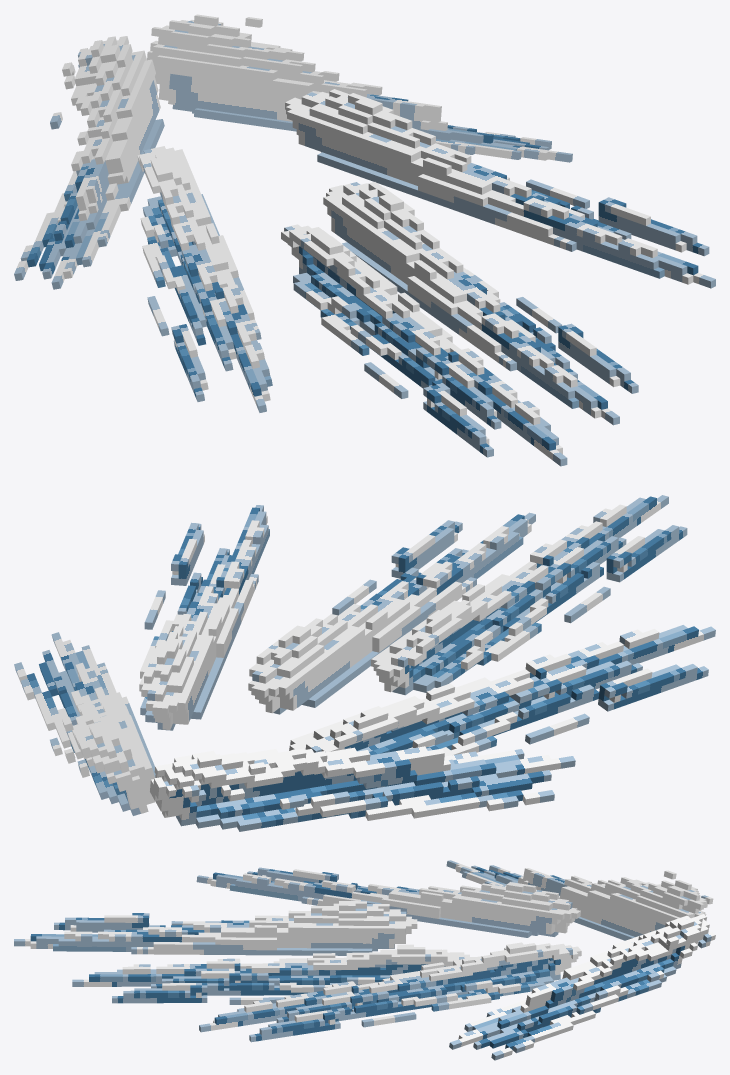
Rendered from vfx_ship_wake_no_ship.gltf.
The picture shows the model from 3 angles, top to bottom: view 1: azimuth 30°, elevation 25°; view 2: azimuth 150°, elevation 25°; view 3: azimuth 270°, elevation 25°; orthographic projection. The views are drawn at different scales.
Parts seen in each view (by area): view 1: wake$$strbrd rear-Local, wake$$strbrd rear2-Local, wake$$port rear2-Local, wake$$starboard-Local, wake$$port-Local, wake$$port rear-Local; view 2: wake$$port-Local, wake$$port rear-Local, wake$$port rear2-Local, wake$$strbrd rear2-Local, wake$$strbrd rear-Local, wake$$starboard-Local; view 3: wake$$strbrd rear-Local, wake$$port rear2-Local, wake$$starboard-Local, wake$$strbrd rear2-Local, wake$$port rear-Local, wake$$port-Local.
Boxes of the visible parts, bbox=[...] form: wake$$strbrd rear-Local: bbox=[285, 89, 715, 288]; wake$$strbrd rear2-Local: bbox=[323, 182, 638, 425]; wake$$port rear2-Local: bbox=[281, 224, 567, 466]; wake$$starboard-Local: bbox=[147, 14, 572, 162]; wake$$port-Local: bbox=[14, 36, 164, 289]; wake$$port rear-Local: bbox=[137, 146, 272, 412]; wake$$port-Local: bbox=[150, 746, 575, 831]; wake$$port rear-Local: bbox=[289, 625, 715, 756]; wake$$port rear2-Local: bbox=[371, 495, 687, 695]; wake$$strbrd rear2-Local: bbox=[248, 512, 535, 714]; wake$$strbrd rear-Local: bbox=[139, 505, 269, 730]; wake$$starboard-Local: bbox=[14, 632, 155, 815]; wake$$strbrd rear-Local: bbox=[199, 942, 581, 1042]; wake$$port rear2-Local: bbox=[14, 901, 417, 955]; wake$$starboard-Local: bbox=[449, 914, 715, 1060]; wake$$strbrd rear2-Local: bbox=[72, 944, 475, 1004]; wake$$port rear-Local: bbox=[196, 867, 580, 937]; wake$$port-Local: bbox=[446, 860, 713, 940].
Bounding box in the file's own units: 80.7 × 13.65 × 125.
6 materials, 6 textured.
